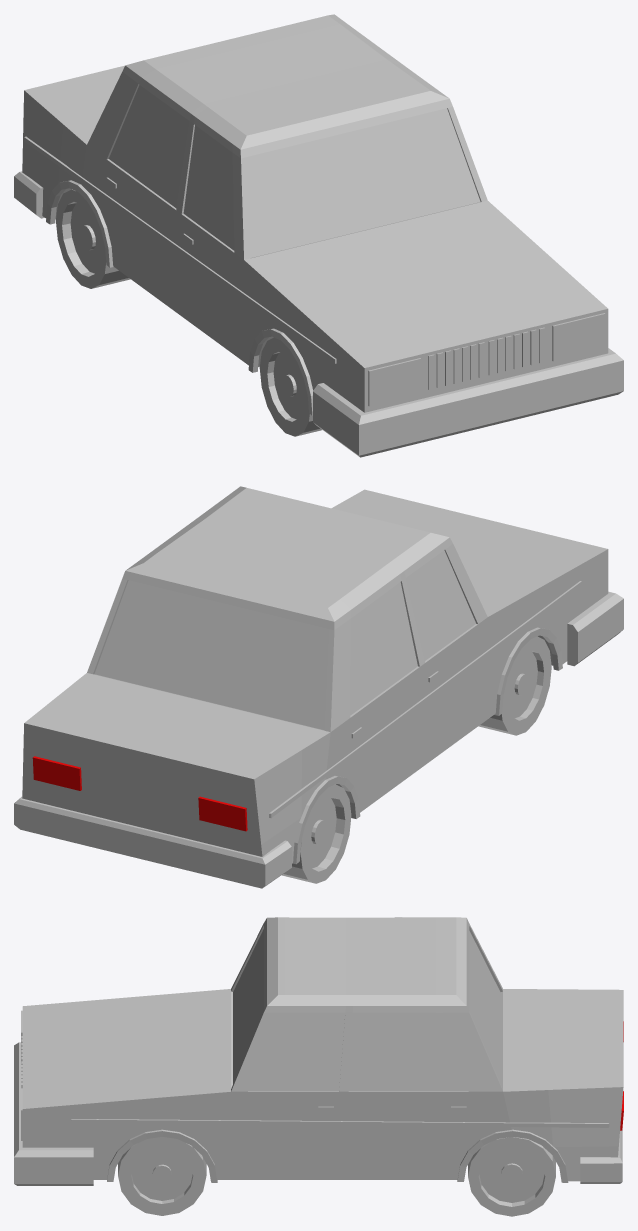
File: Car.fbx
3 renders of one model, top to bottom at view 1: azimuth 30°, elevation 25°; view 2: azimuth 150°, elevation 25°; view 3: azimuth 270°, elevation 25°, orthographic. The views are drawn at different scales.
Visible parts, largest first — view 1: Body, Windows, Bumper_front, Rubber, Headlights, Car_grille, Discs, Fenders, Molding, Bumper_back; view 2: Body, Windows, Bumper_back, Rubber, Discs, Bumper_front, Fenders, Headlights.002, Molding; view 3: Body, Windows, Rubber, Discs, Bumper_front, Molding, Fenders, Bumper_back.
Part boxes in pixels (bbox=[...]): Body: bbox=[22, 14, 608, 412]; Windows: bbox=[109, 85, 480, 257]; Bumper_front: bbox=[313, 348, 623, 457]; Rubber: bbox=[56, 189, 321, 436]; Headlights: bbox=[368, 313, 605, 406]; Car_grille: bbox=[428, 327, 545, 390]; Discs: bbox=[70, 203, 303, 419]; Fenders: bbox=[46, 180, 313, 415]; Molding: bbox=[24, 136, 336, 363]; Bumper_back: bbox=[14, 171, 44, 218]; Body: bbox=[22, 486, 608, 863]; Windows: bbox=[94, 550, 476, 730]; Bumper_back: bbox=[14, 797, 291, 888]; Rubber: bbox=[282, 636, 551, 883]; Discs: bbox=[306, 651, 537, 868]; Bumper_front: bbox=[567, 591, 623, 666]; Fenders: bbox=[293, 627, 562, 864]; Headlights.002: bbox=[32, 756, 247, 831]; Molding: bbox=[269, 581, 581, 817]; Body: bbox=[22, 917, 623, 1181]; Windows: bbox=[233, 929, 500, 1090]; Rubber: bbox=[118, 1137, 555, 1216]; Discs: bbox=[131, 1146, 544, 1202]; Bumper_front: bbox=[14, 1042, 93, 1185]; Molding: bbox=[71, 1119, 609, 1127]; Fenders: bbox=[107, 1129, 568, 1182]; Bumper_back: bbox=[580, 1128, 622, 1183].
Size of the model in its own units: 163 by 142 by 376.
